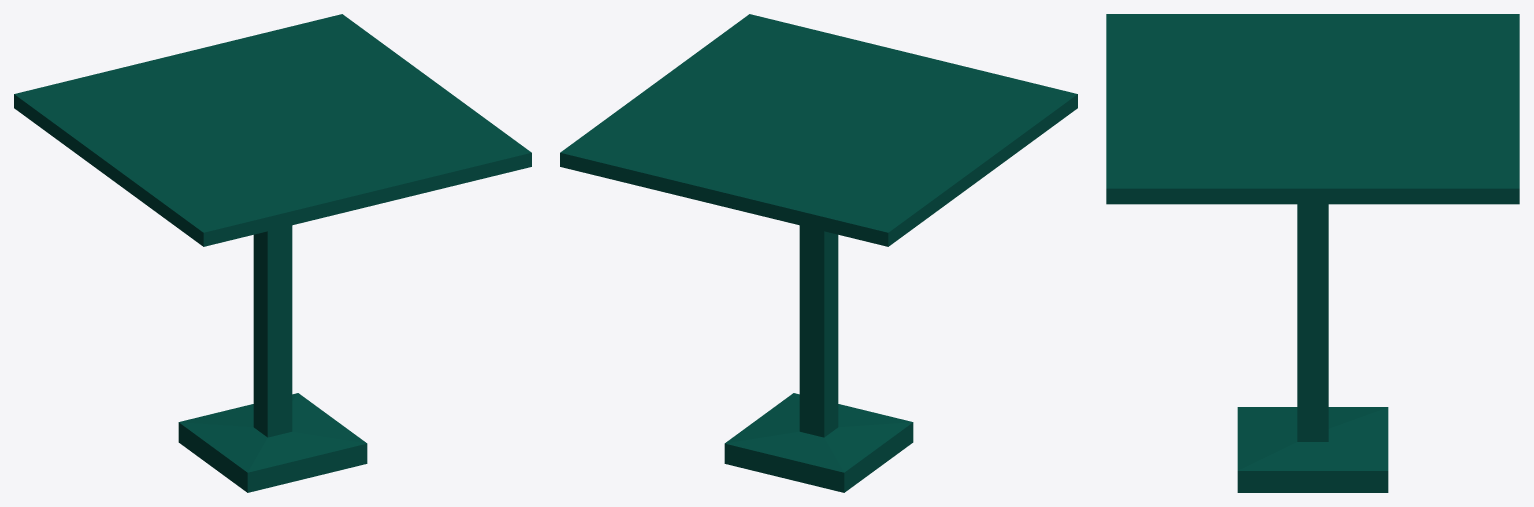
The model's file is eatingTable.fbx.
3 renders of one model, left to right at view 1: azimuth 30°, elevation 25°; view 2: azimuth 150°, elevation 25°; view 3: azimuth 270°, elevation 25°, orthographic. The views are drawn at different scales.
Parts seen in each view (by area): view 1: streetTable.001; view 2: streetTable.001; view 3: streetTable.001.
Part boxes in pixels (bbox=[...]): streetTable.001: bbox=[14, 14, 531, 492]; streetTable.001: bbox=[560, 14, 1077, 492]; streetTable.001: bbox=[1106, 14, 1519, 492].
Size of the model in its own units: 0.3332 by 0.3197 by 0.3332.
